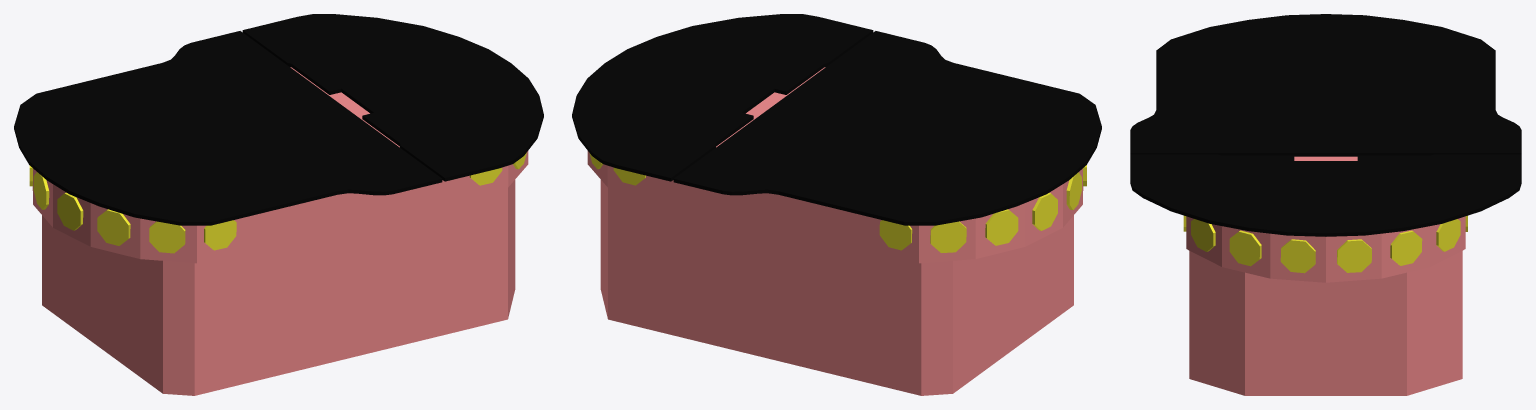
The model's file is chassis.dae.
3 views of the same model, side by side, from view 1: azimuth 30°, elevation 25°; view 2: azimuth 150°, elevation 25°; view 3: azimuth 270°, elevation 25° (orthographic). The views are drawn at different scales.
Parts seen in each view (by area): view 1: chassis_top, chassis, sonarbank_001; view 2: chassis_top, chassis, sonarbank_001; view 3: chassis_top, chassis, sonarbank.
Boxes of the visible parts, box(x1,y1,x2,y2) form: chassis_top: box(14, 14, 543, 225); chassis: box(32, 67, 528, 395); sonarbank_001: box(29, 165, 236, 253); chassis_top: box(572, 14, 1101, 225); chassis: box(587, 67, 1083, 395); sonarbank_001: box(879, 165, 1086, 252); chassis_top: box(1130, 14, 1521, 236); chassis: box(1186, 156, 1465, 395); sonarbank: box(1183, 215, 1467, 273).
Size of the model in its own units: 0.5082 by 0.3831 by 0.195.
